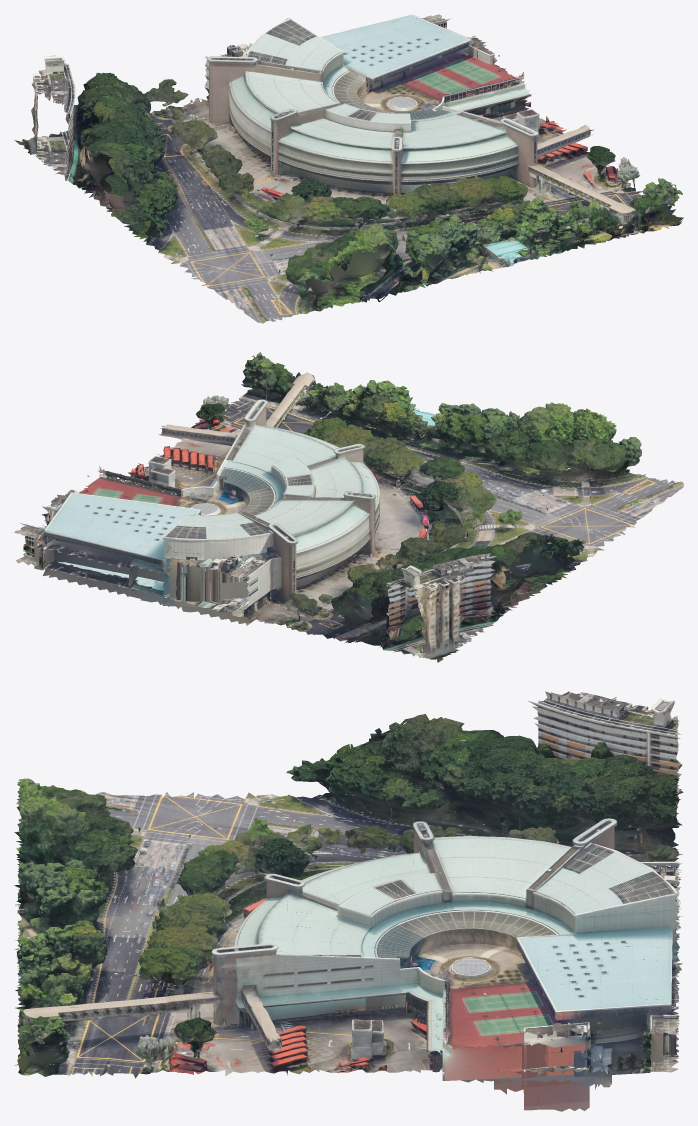
3 views of the same model, one above another, from view 1: azimuth 30°, elevation 25°; view 2: azimuth 150°, elevation 25°; view 3: azimuth 270°, elevation 25° (orthographic). The views are drawn at different scales.
Parts seen in each view (by area): view 1: 314050417363506052435, 314050417363506052772, 314050417363506070415, 314050417363506071462-1, 314050417363506053660, 314050417363506070573; view 2: 314050417363506052435, 314050417363506071462-1, 314050417363506070573, 314050417363506070415, 314050417363506052772, 314050417363506053660; view 3: 314050417363506071462-1, 314050417363506052435, 314050417363506052772, 314050417363506053660, 314050417363506070415, 314050417363506070573.
Part boxes in pixels (x1,y1,x2,y2): 314050417363506052435: (124,176,445,323); 314050417363506052772: (232,123,683,279); 314050417363506070415: (35,78,311,224); 314050417363506071462-1: (200,14,548,125); 314050417363506053660: (312,108,641,210); 314050417363506070573: (14,55,452,177); 314050417363506052435: (375,402,683,584); 314050417363506071462-1: (14,466,315,625); 314050417363506070573: (164,466,458,662); 314050417363506070415: (269,491,548,648); 314050417363506052772: (223,352,489,537); 314050417363506053660: (128,395,379,493); 314050417363506071462-1: (381,831,682,1111); 314050417363506052435: (14,728,381,918); 314050417363506052772: (14,829,381,1076); 314050417363506053660: (131,858,381,1078); 314050417363506070415: (381,691,632,885); 314050417363506070573: (381,698,683,1022).
Bounding box in the file's own units: 205 × 50.9 × 204.
Materials: 359 (359 with a texture image).
